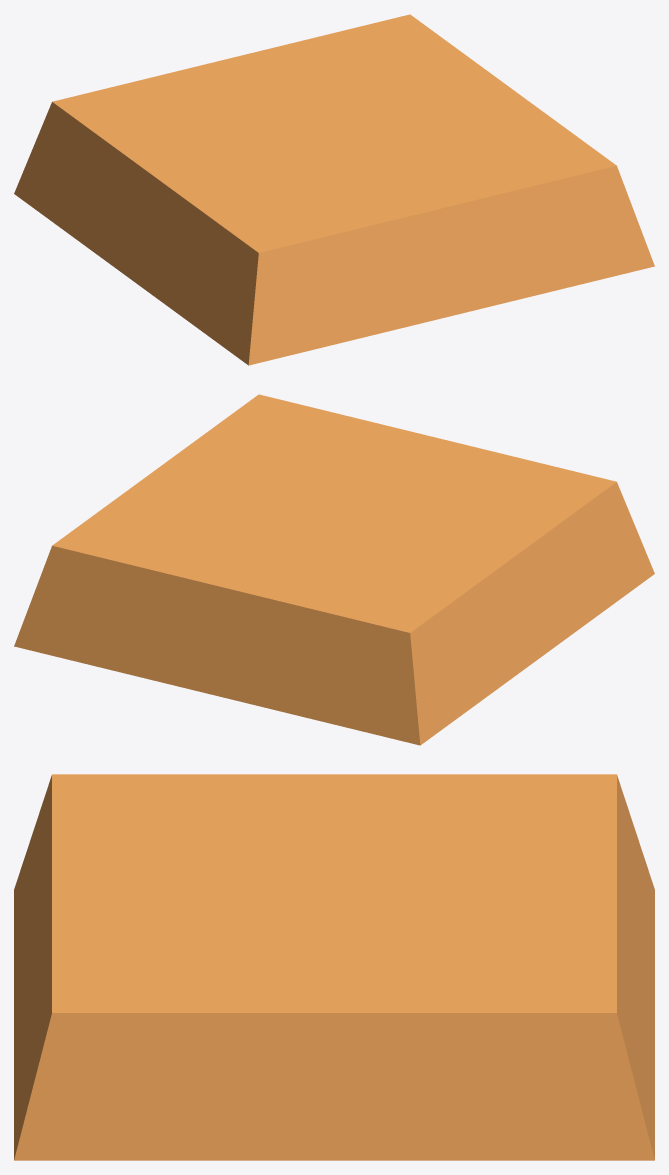
Rendered from PanAbajo.glb.
The picture shows the model from 3 angles, top to bottom: view 1: azimuth 30°, elevation 25°; view 2: azimuth 150°, elevation 25°; view 3: azimuth 270°, elevation 25°; orthographic projection. The views are drawn at different scales.
Parts seen in each view (by area): view 1: Cube.001; view 2: Cube.001; view 3: Cube.001.
Boxes of the visible parts, x1,y1,x2,y2 form: Cube.001: (14, 14, 654, 365); Cube.001: (14, 394, 654, 745); Cube.001: (14, 774, 654, 1160).
Size of the model in its own units: 9.52 by 2.16 by 9.52.
